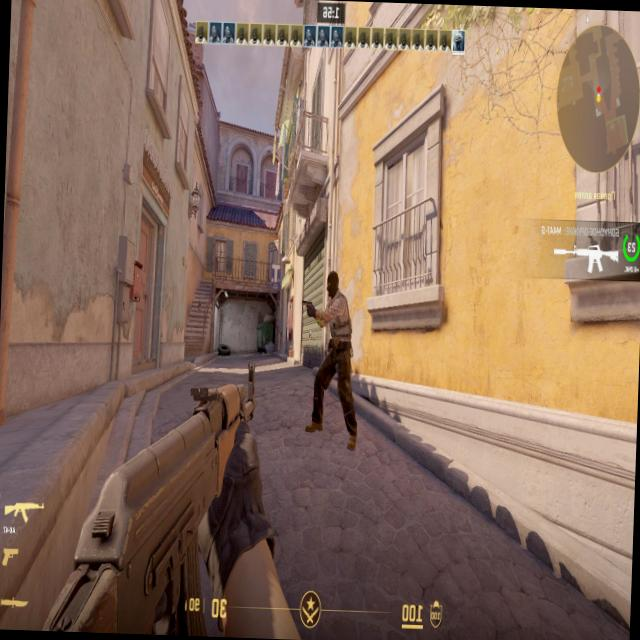T: (316, 270, 346, 410)
T_heat: (328, 270, 339, 296)
